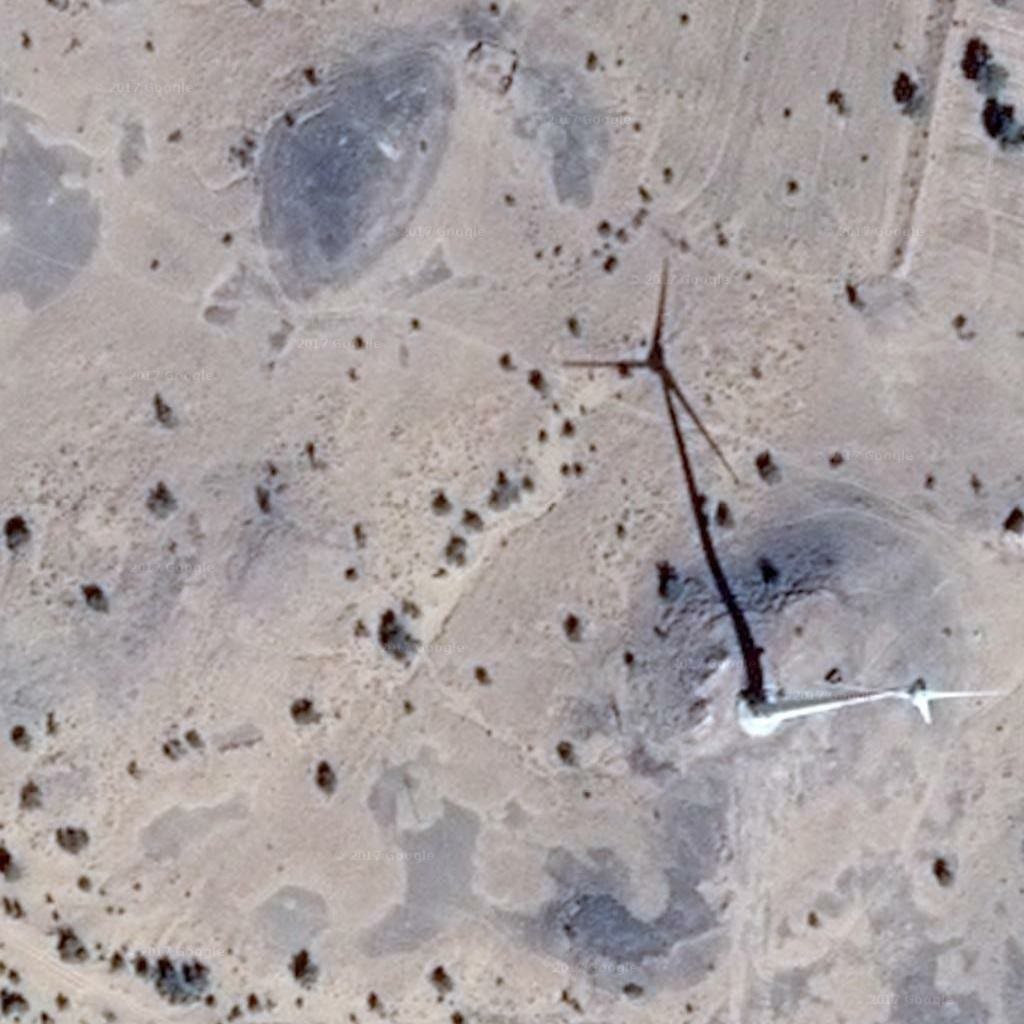Windmill: (564, 251, 776, 701)
